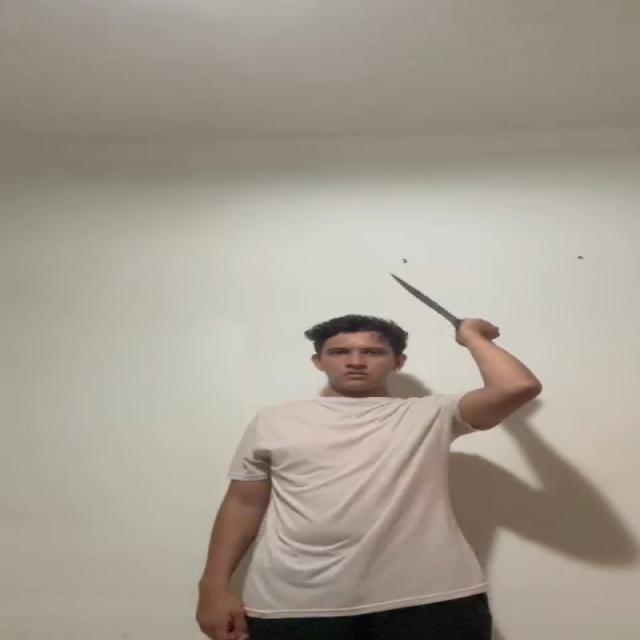knife: (386, 273, 456, 319)
